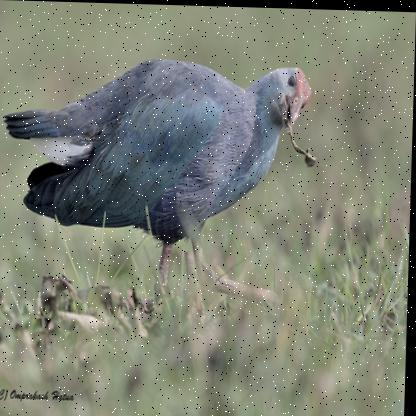Burung: (2, 51, 317, 314)
